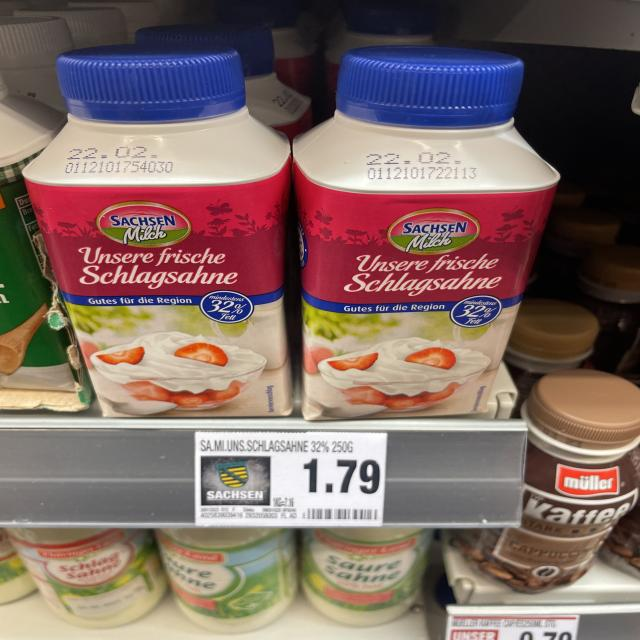cream: (22, 44, 291, 417), (293, 45, 560, 420), (6, 529, 166, 630)
sour cream: (155, 529, 296, 634), (302, 529, 432, 627)
